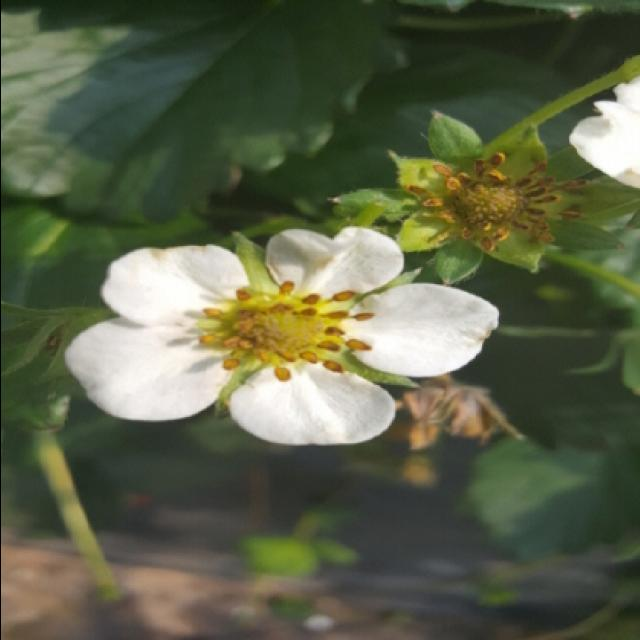Blossom Blight: (194, 273, 377, 386), (408, 150, 591, 257)
